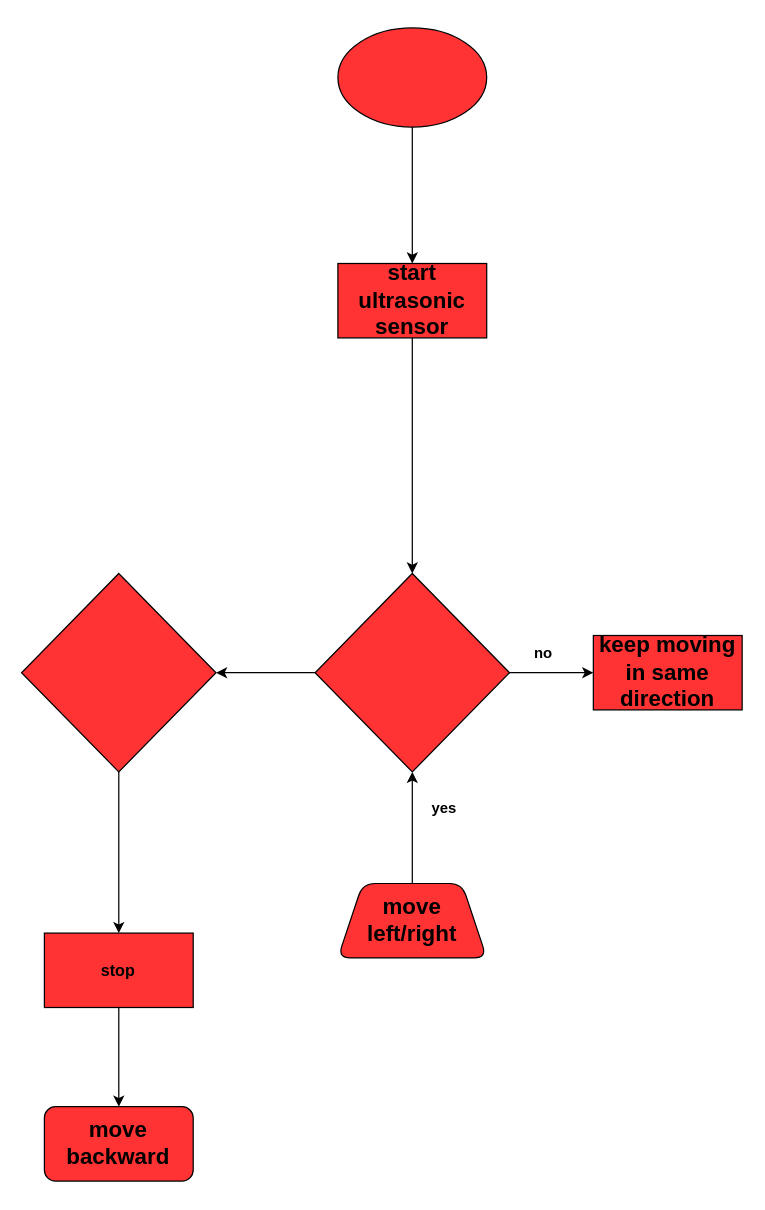
This 765x1210 diagram has some shape labels left out. The box of each missing label's shape, as (x1, y1, x2, y2) in pixels:
if distance smaller than 30: (20, 572, 216, 772)
if distance smaller than 60cm: (314, 572, 510, 772)
start motors: (337, 27, 487, 127)
